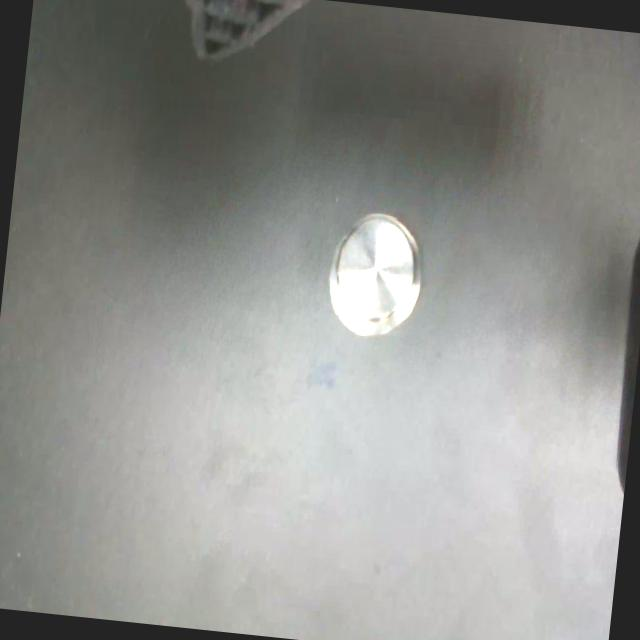sensor: (320, 208, 428, 342)
